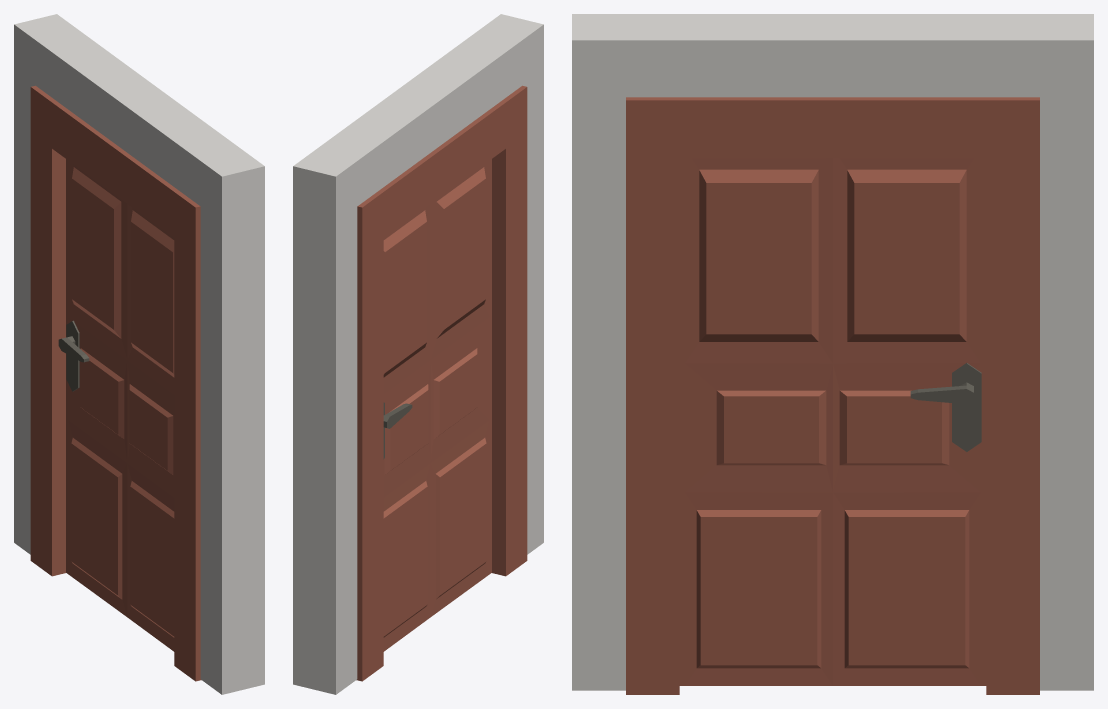
File: Door_house01.obj
3 views of the same model, side by side, from view 1: azimuth 30°, elevation 25°; view 2: azimuth 150°, elevation 25°; view 3: azimuth 270°, elevation 25° (orthographic). The views are drawn at different scales.
Parts seen in each view (by area): view 1: Door_house01.001_Cube.003; view 2: Door_house01.001_Cube.003; view 3: Door_house01.001_Cube.003.
Boxes of the visible parts, left/top/right/bottom form: Door_house01.001_Cube.003: left=14, top=14, right=264, bottom=694; Door_house01.001_Cube.003: left=293, top=14, right=543, bottom=694; Door_house01.001_Cube.003: left=572, top=14, right=1093, bottom=694.
Size of the model in its own units: 0.3191 by 3.01 by 2.19.
